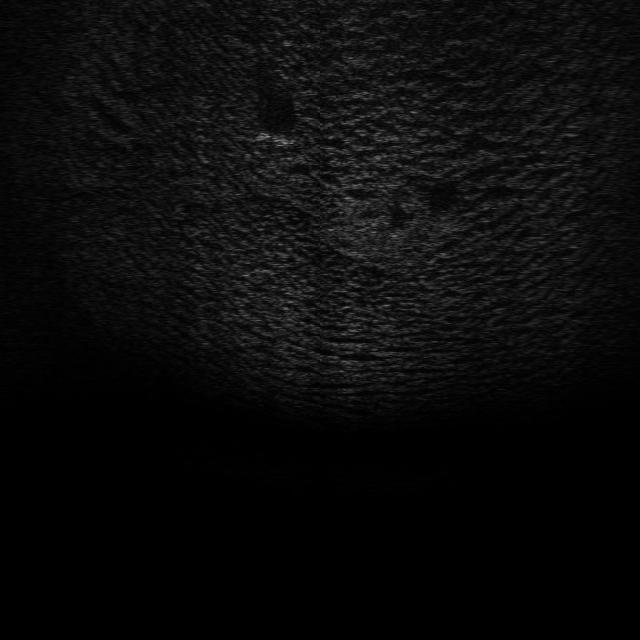plane: (250, 126, 300, 151)
